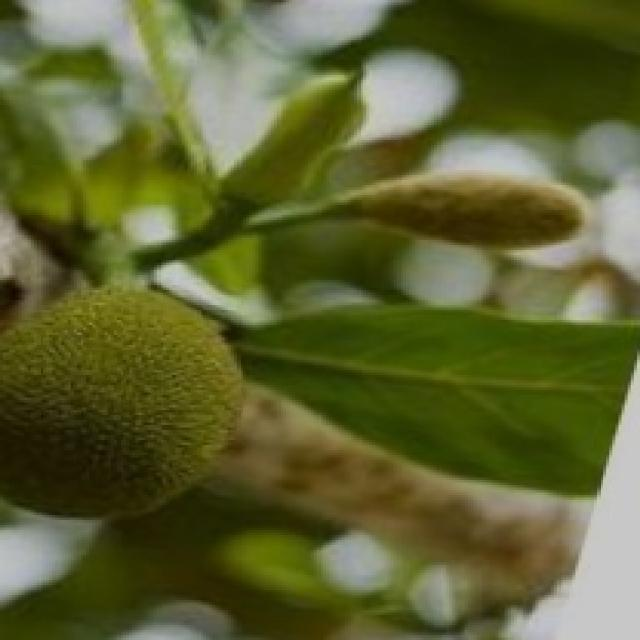Fruit: (0, 250, 289, 555)
